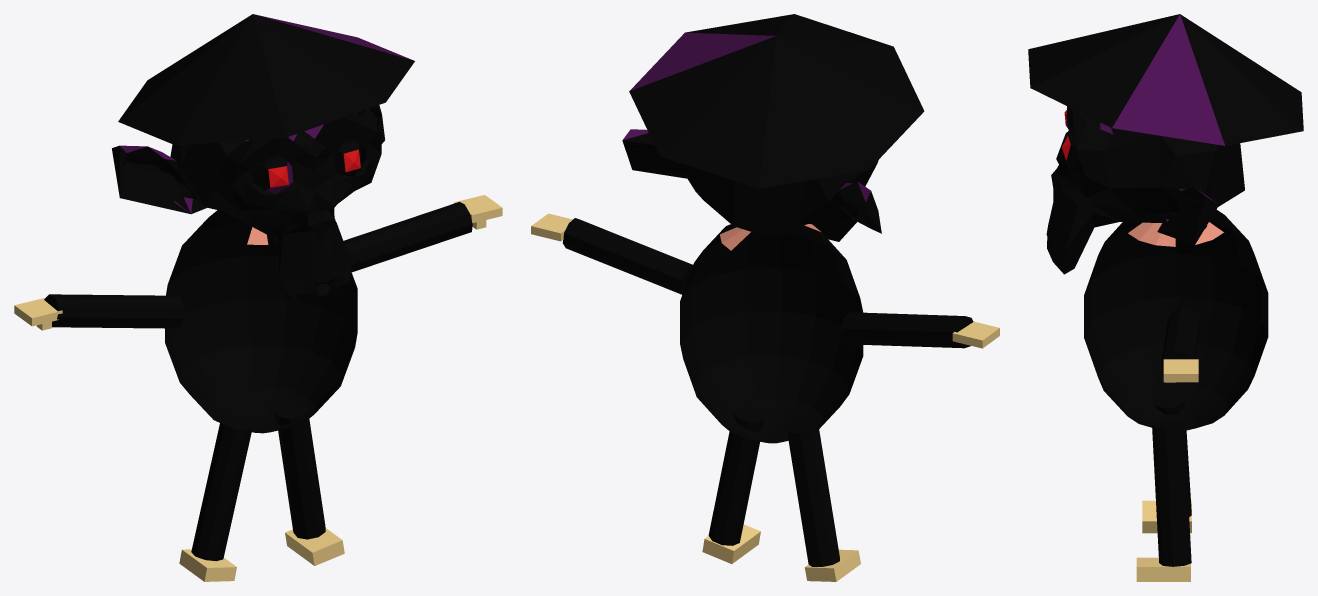
File: EnemyModel.fbx
3 views of the same model, side by side, from view 1: azimuth 30°, elevation 25°; view 2: azimuth 150°, elevation 25°; view 3: azimuth 270°, elevation 25° (orthographic). The views are drawn at different scales.
Visible parts, largest first — view 1: Sphere, Cylinder.003, Cylinder.002, Cylinder, Cylinder.001, Cube.002, Cube.003, Cube.001, Cube; view 2: Sphere, Cylinder.003, Cylinder.001, Cylinder.002, Cylinder, Cube.002, Cube.003, Cube.001, Cube; view 3: Sphere, Cylinder.002, Cylinder.001, Cube.002, Cylinder.003, Cube, Cube.003.
Part boxes in pixels (x1,y1,x2,y2): Sphere: (112, 14, 414, 433); Cylinder.003: (191, 417, 252, 561); Cylinder.002: (275, 401, 325, 539); Cylinder: (44, 294, 183, 328); Cylinder.001: (343, 201, 472, 272); Cube.002: (285, 528, 344, 565); Cube.003: (179, 549, 236, 581); Cube.001: (14, 298, 62, 326); Cube: (454, 195, 502, 223); Sphere: (622, 14, 924, 443); Cylinder.003: (787, 423, 839, 566); Cylinder.001: (562, 218, 697, 294); Cylinder.002: (708, 406, 764, 545); Cylinder: (841, 312, 973, 348); Cube.002: (702, 524, 760, 563); Cube.003: (804, 549, 860, 581); Cube.001: (952, 321, 999, 348); Cube: (531, 213, 572, 241); Sphere: (1028, 14, 1303, 430); Cylinder.002: (1152, 420, 1191, 566); Cylinder.001: (1160, 306, 1199, 373); Cube.002: (1136, 557, 1190, 581); Cylinder.003: (1152, 389, 1191, 516); Cube: (1163, 359, 1198, 382); Cube.003: (1142, 500, 1191, 533).
Bounding box in the file's own units: 76.41 × 85.51 × 39.62.
